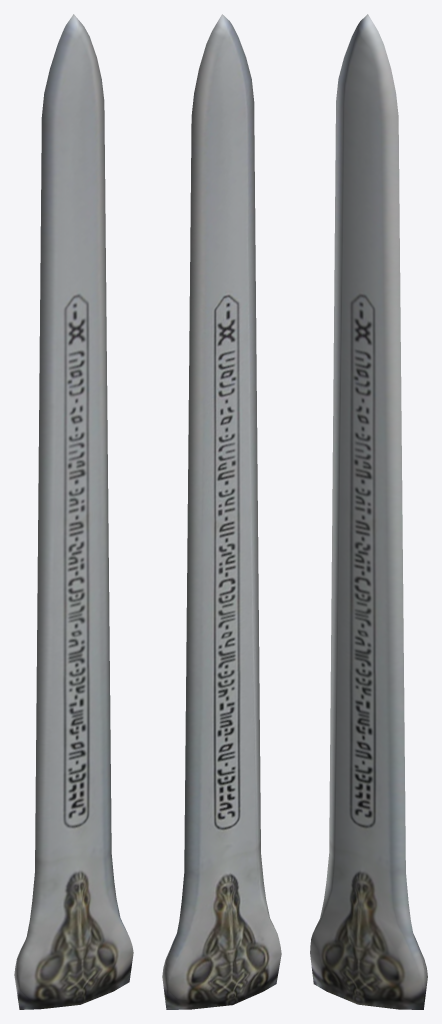
File: baphomet-sword-edge.fbx
3 views of the same model, side by side, from view 1: azimuth 30°, elevation 25°; view 2: azimuth 210°, elevation 25°; view 3: azimuth 330°, elevation 25° (orthographic).
Visible parts, largest first — view 1: Baphomet-Sword.001; view 2: Baphomet-Sword.001; view 3: Baphomet-Sword.001.
Boxes of the visible parts, left/top/right/bottom form: Baphomet-Sword.001: left=14, top=14, right=133, bottom=1009; Baphomet-Sword.001: left=162, top=14, right=281, bottom=1009; Baphomet-Sword.001: left=310, top=14, right=427, bottom=1009.
Size of the model in its own units: 42.39 by 351 by 12.29.
Materials: 1 (1 with a texture image).
